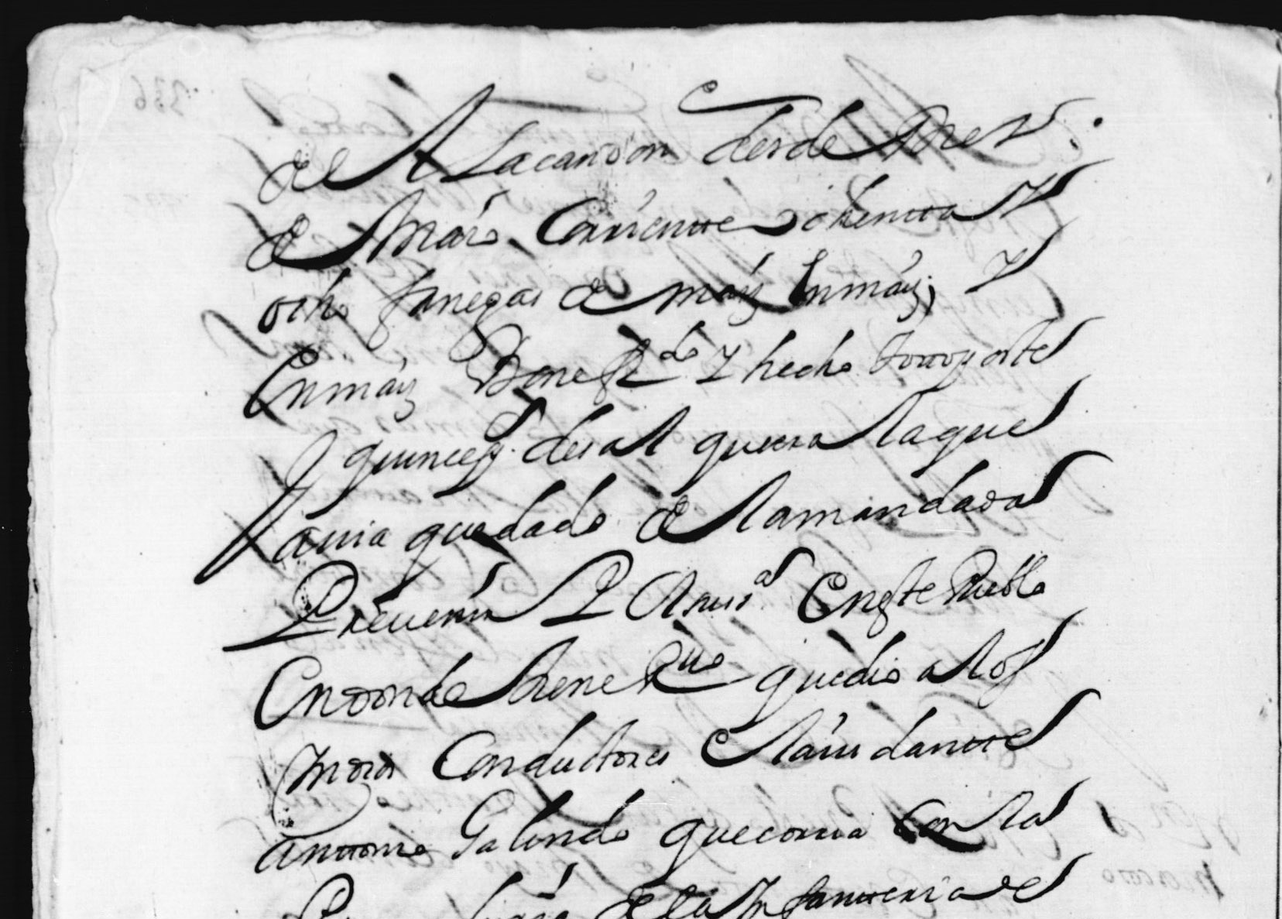lacandon: (439, 120, 671, 183)
